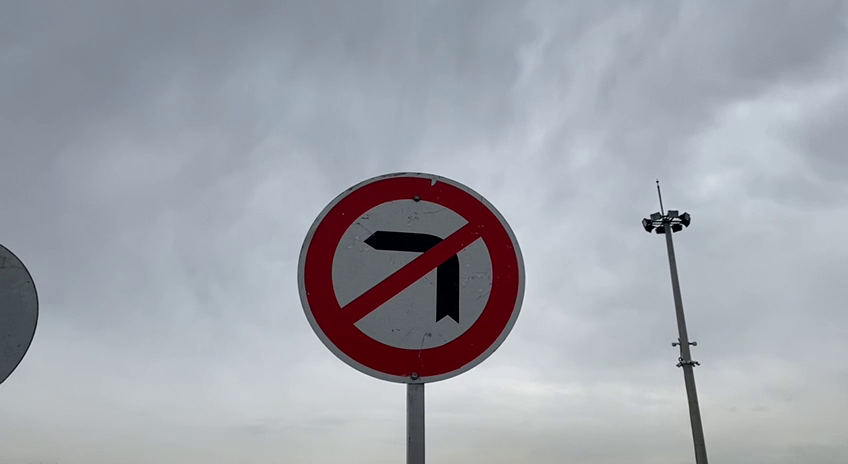noTurnLeft: (292, 165, 533, 388)
